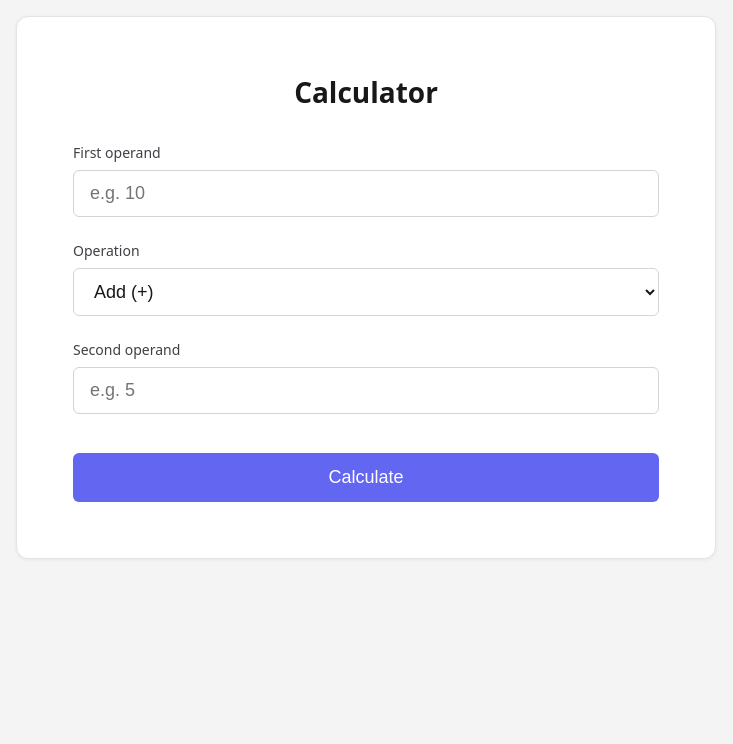
Test: App › displays result after successful calculation
Type "10" into the field labelled "First operand" at (366, 194), box [73,170,659,217]
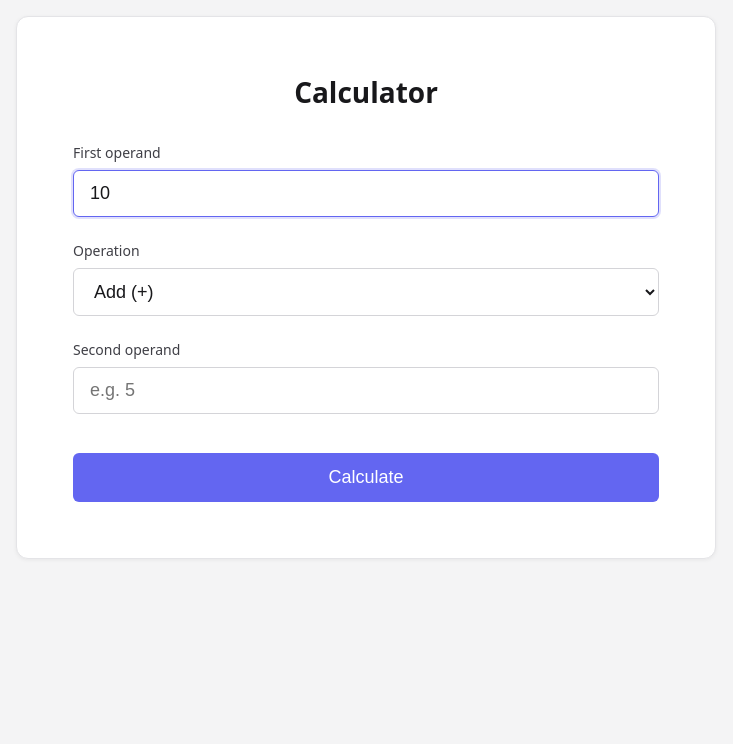
Type "5" into the field labelled "Second operand" at (366, 390), box [73,367,659,414]
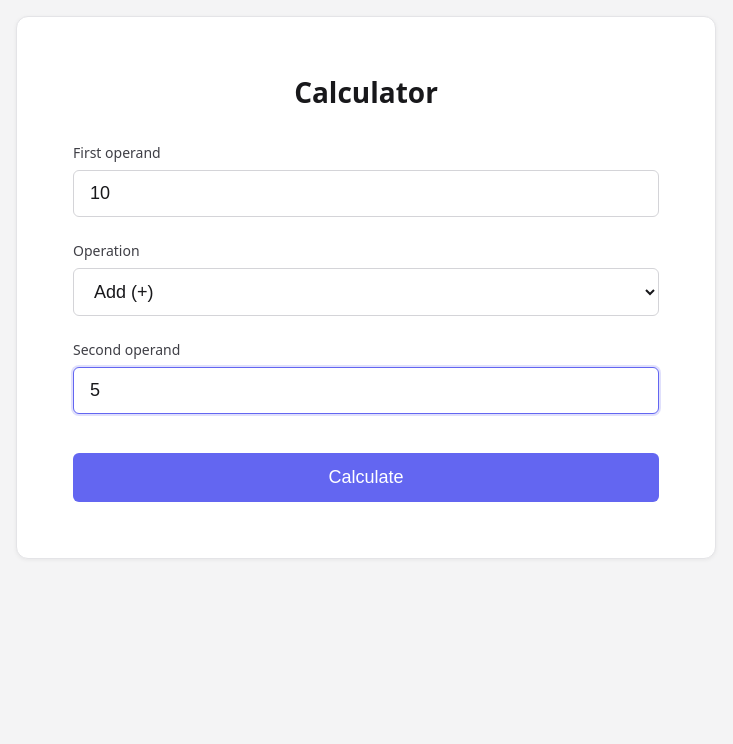
Click the button "Calculate" at (366, 478), box [73,453,659,502]
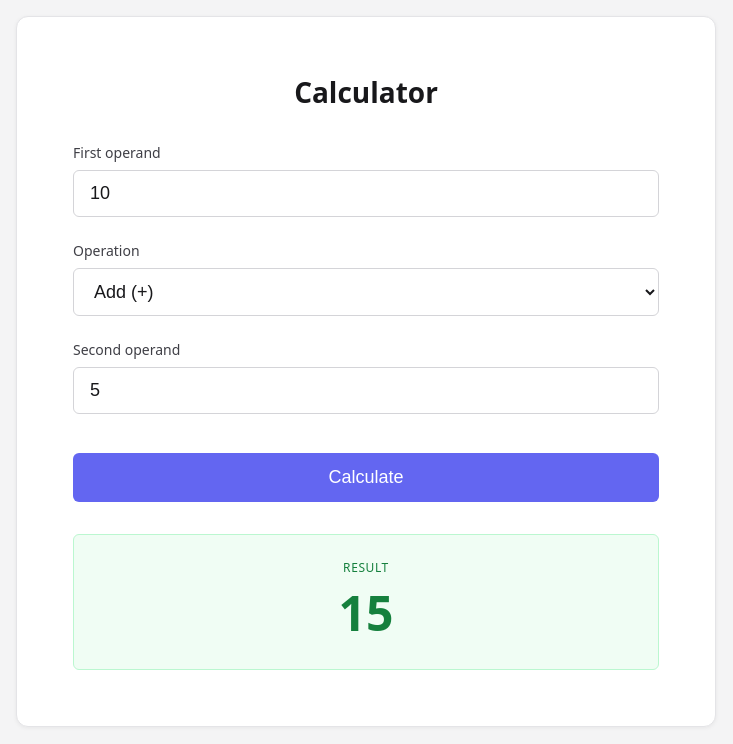
Check: the message shows "15", box [338,580,393,645]
